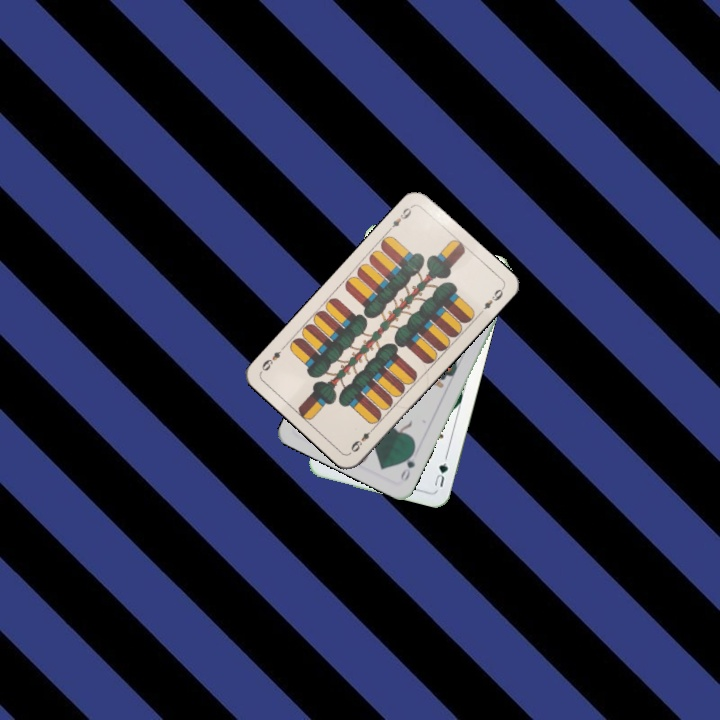E9: (347, 423, 378, 455), (384, 202, 415, 234)
GO: (396, 445, 418, 484)
GU: (430, 458, 451, 489)
